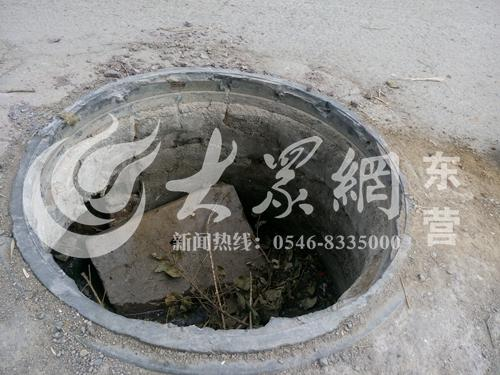lose: (17, 66, 421, 364)
